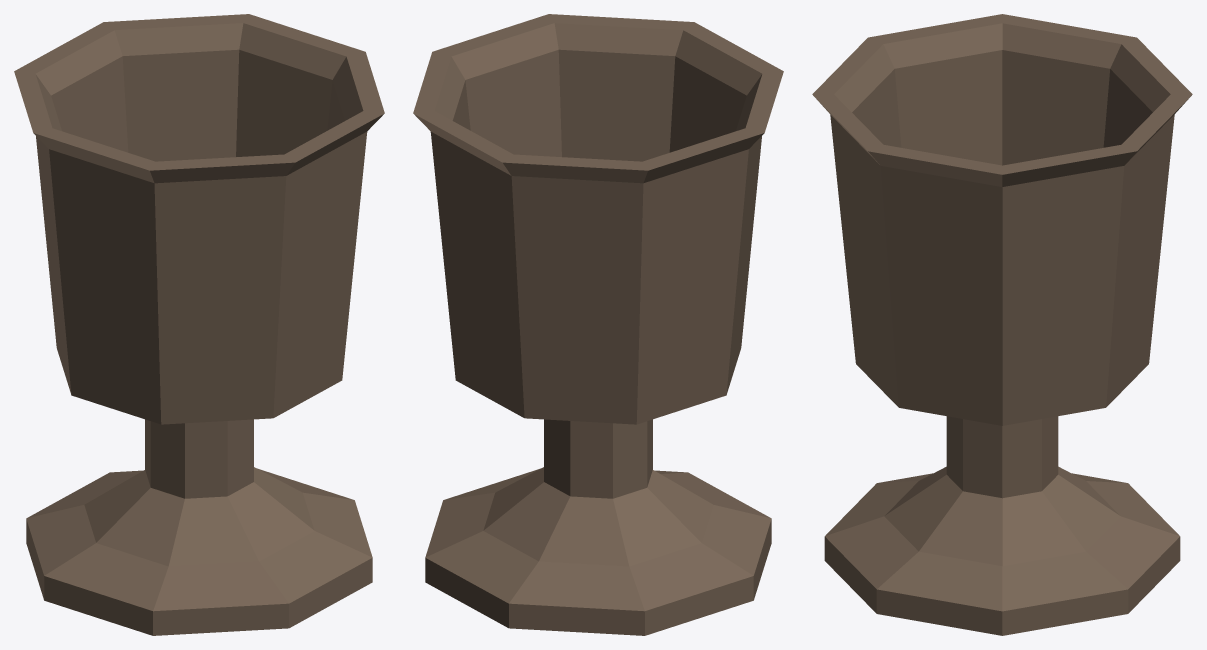
The model's file is Cup.fbx.
The picture shows the model from 3 angles, left to right: view 1: azimuth 30°, elevation 25°; view 2: azimuth 150°, elevation 25°; view 3: azimuth 270°, elevation 25°; orthographic projection.
Visible parts, largest first — view 1: Cup.002; view 2: Cup.002; view 3: Cup.002.
Part boxes in pixels (box(x1,y1,x2,y2)): Cup.002: box(14, 14, 384, 635); Cup.002: box(413, 14, 783, 635); Cup.002: box(812, 14, 1192, 635).
Bounding box in the file's own units: 0.289 × 0.3908 × 0.289.
